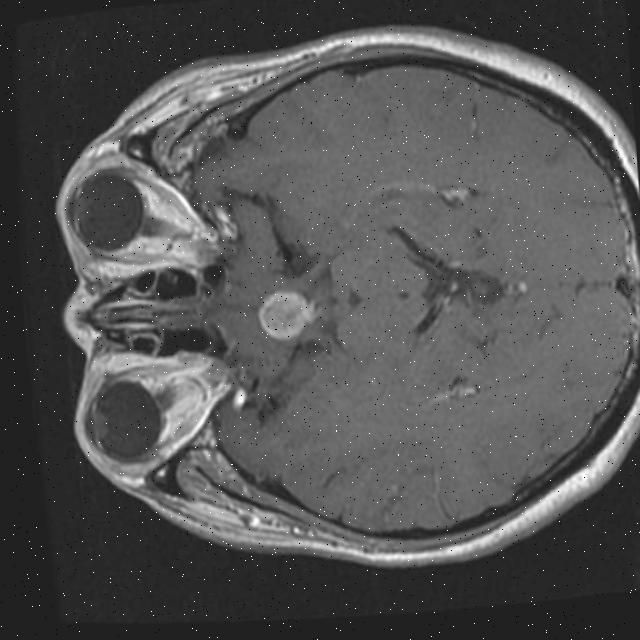Pituitary: (255, 285, 323, 343)
